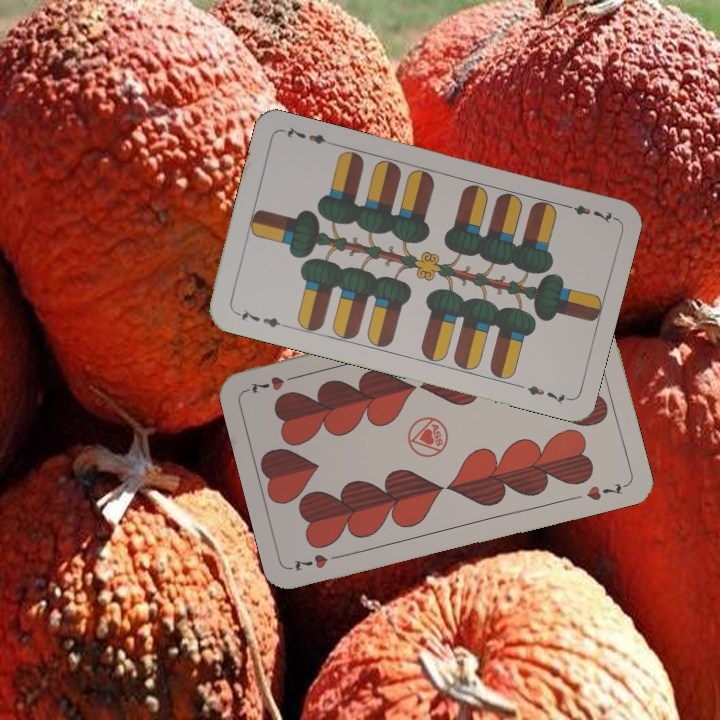E7: (559, 199, 617, 227), (231, 306, 289, 331)
H7: (288, 550, 346, 574)
